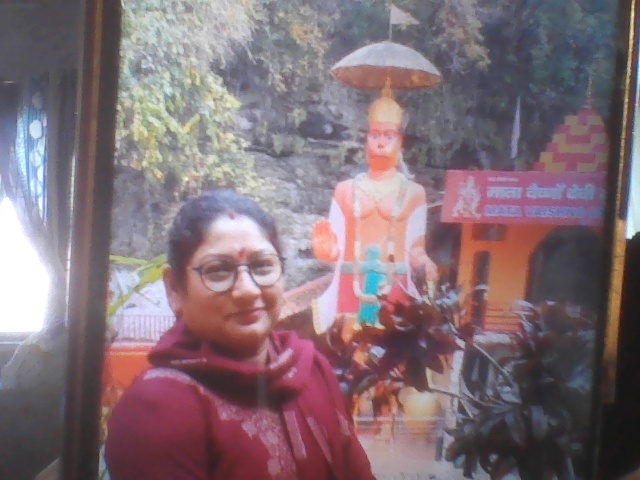fake: (175, 188, 297, 361)
